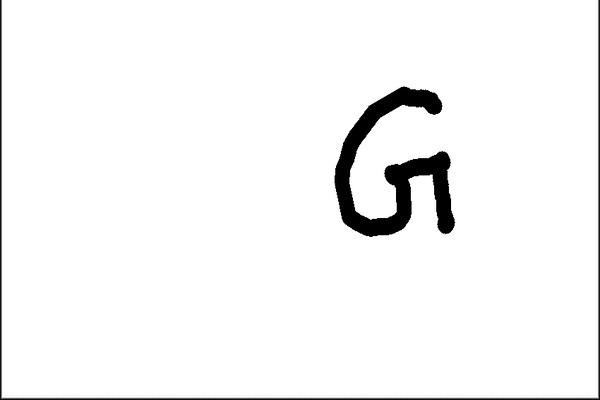G: (329, 78, 469, 238)
